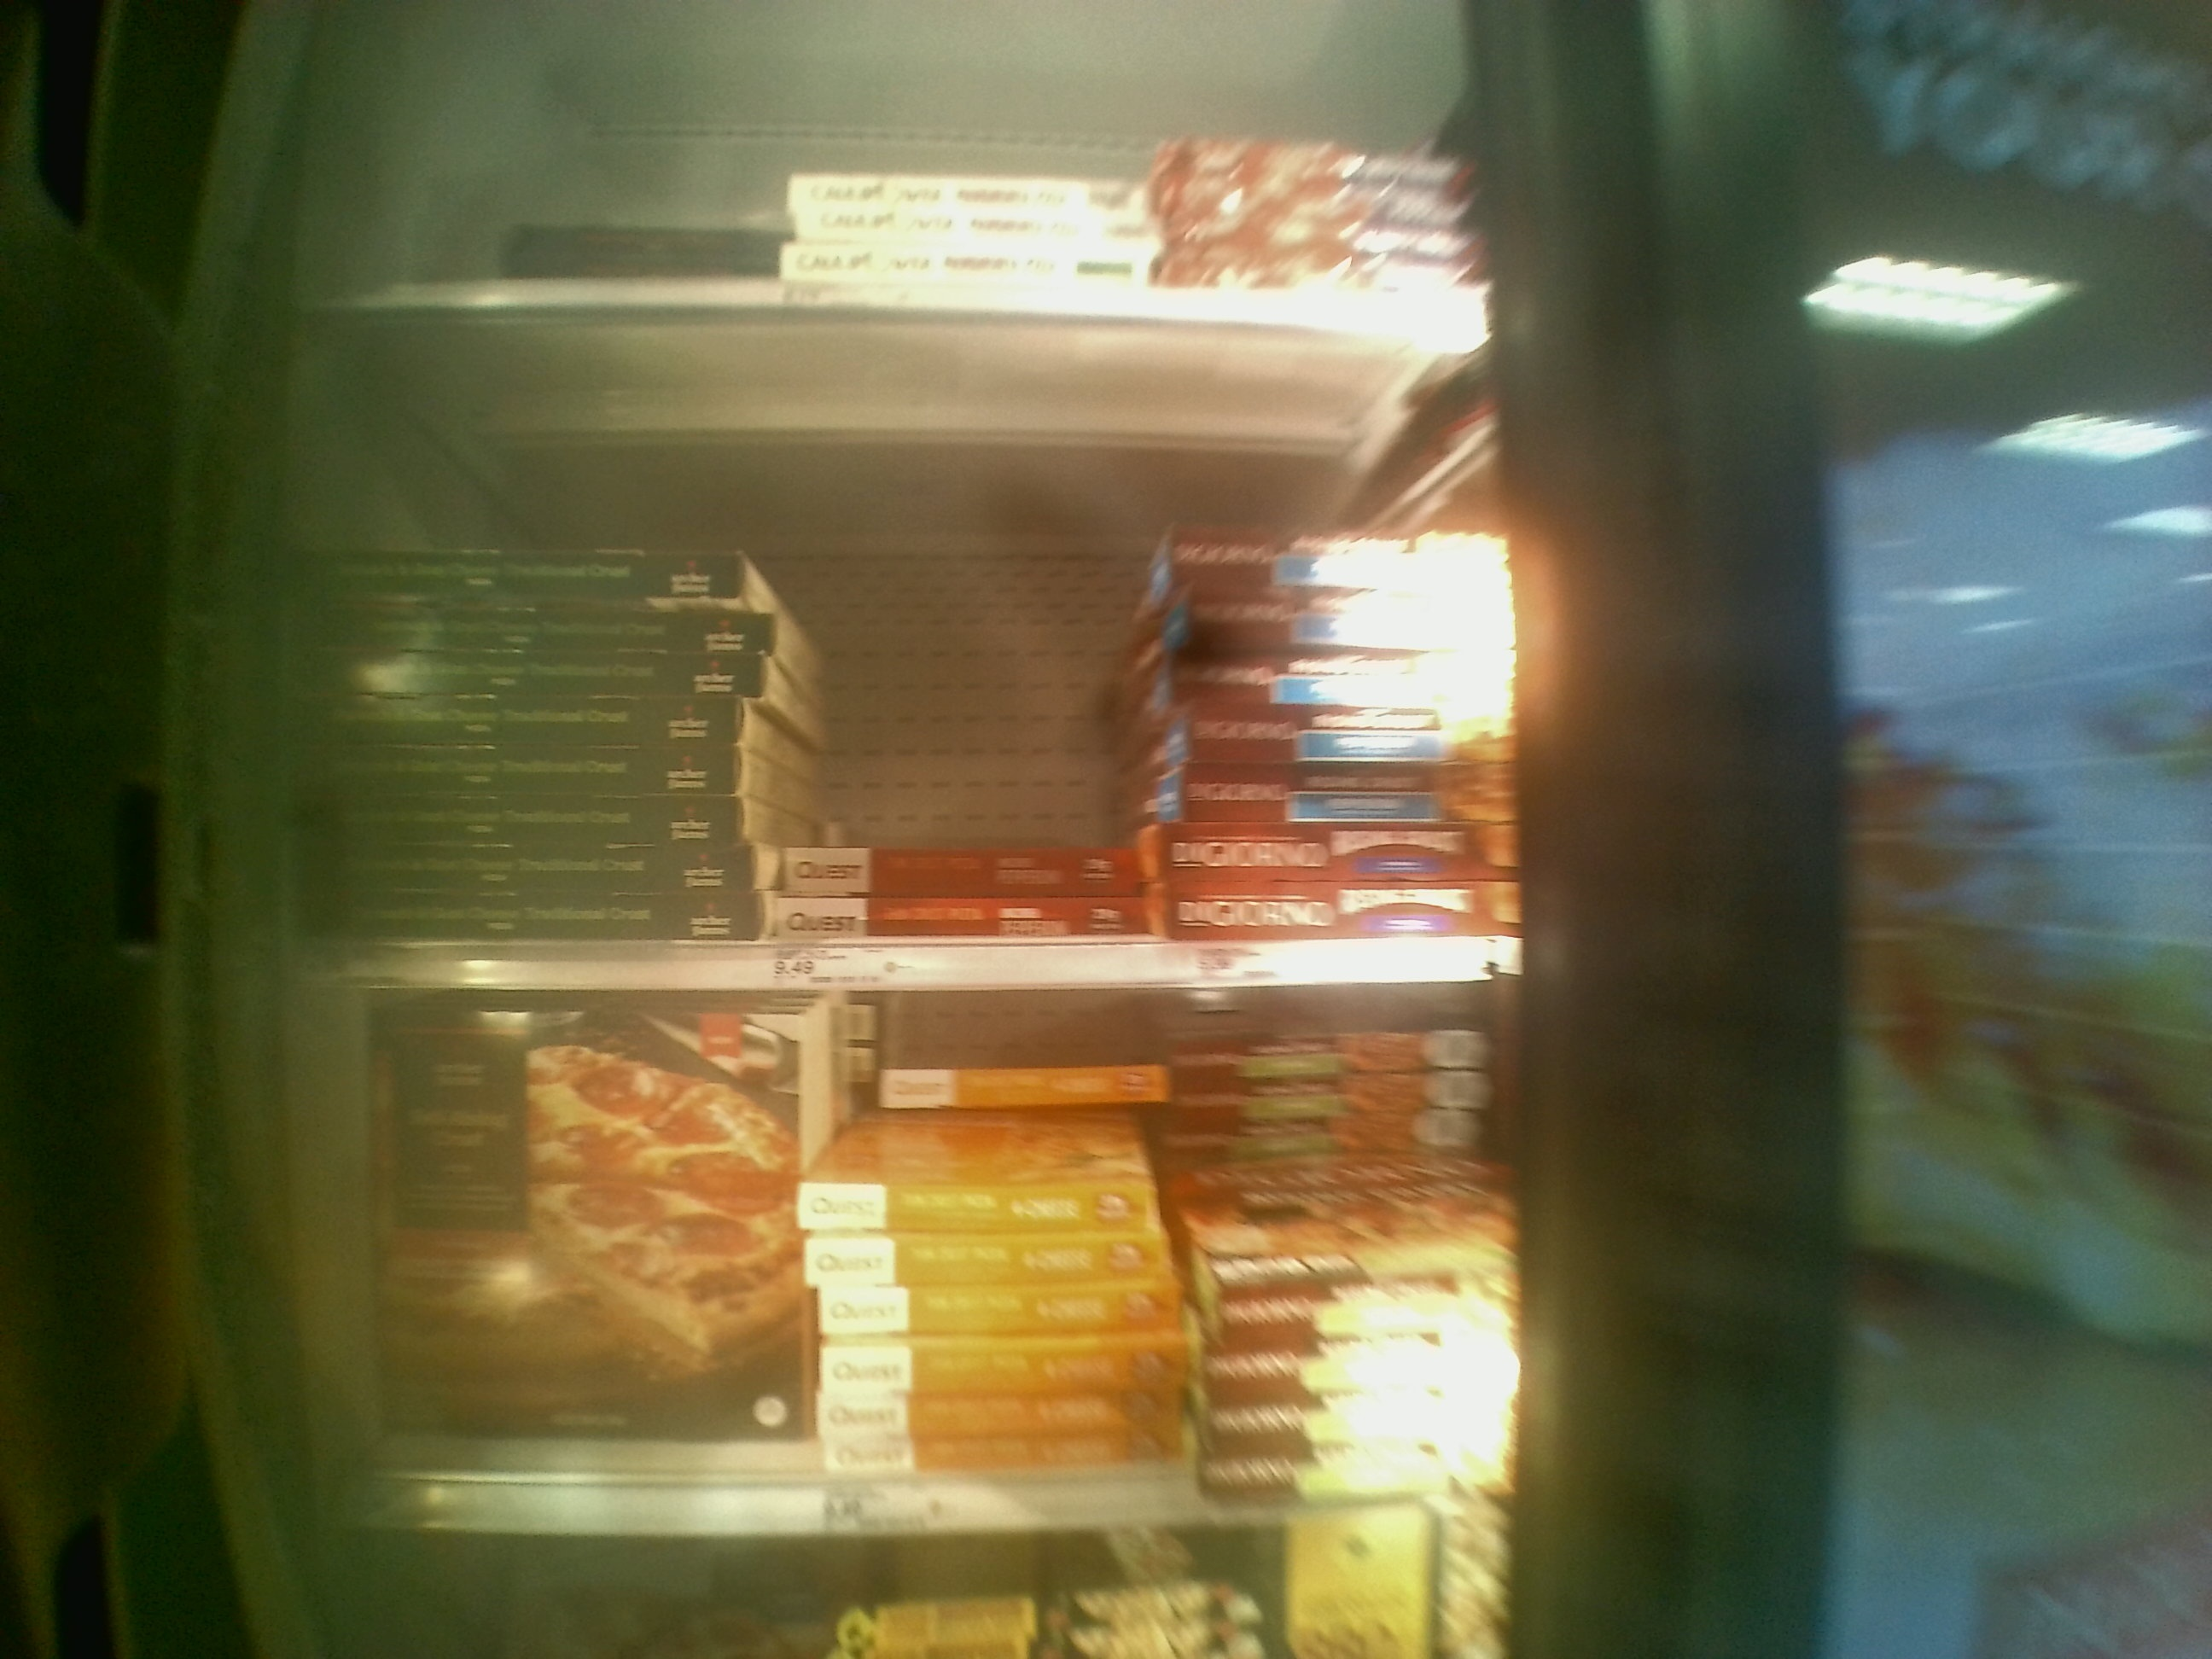pizza: (369, 1011, 801, 1459), (1184, 1166, 1505, 1270), (305, 793, 747, 849), (307, 547, 747, 596), (822, 1110, 1141, 1171), (336, 899, 761, 945), (286, 662, 763, 702), (305, 617, 758, 655), (789, 244, 1155, 291), (824, 1351, 1163, 1401), (798, 1185, 1165, 1230), (1184, 714, 1491, 769), (1179, 596, 1486, 648), (1174, 538, 1475, 591), (792, 169, 1123, 216), (1179, 655, 1467, 709), (1214, 1291, 1475, 1351), (806, 847, 1148, 889), (301, 706, 747, 737), (824, 1295, 1169, 1333), (340, 854, 742, 885), (1183, 894, 1493, 934), (1165, 779, 1486, 817), (1209, 1352, 1470, 1398), (1184, 1115, 1451, 1159), (881, 1063, 1160, 1103), (305, 758, 744, 782), (1214, 1410, 1470, 1452), (784, 903, 1144, 932), (808, 1244, 1143, 1276), (1188, 1080, 1475, 1115), (1188, 1040, 1489, 1073), (1214, 1457, 1467, 1492), (829, 1410, 1169, 1434), (801, 220, 1137, 244), (1160, 840, 1510, 863), (834, 1445, 1184, 1466)
